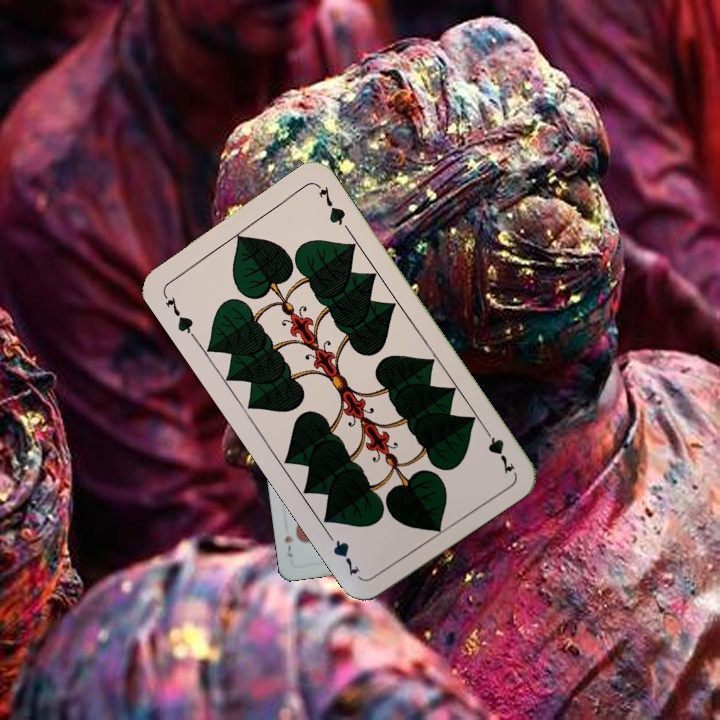G7: (478, 421, 518, 476), (158, 288, 198, 341)
